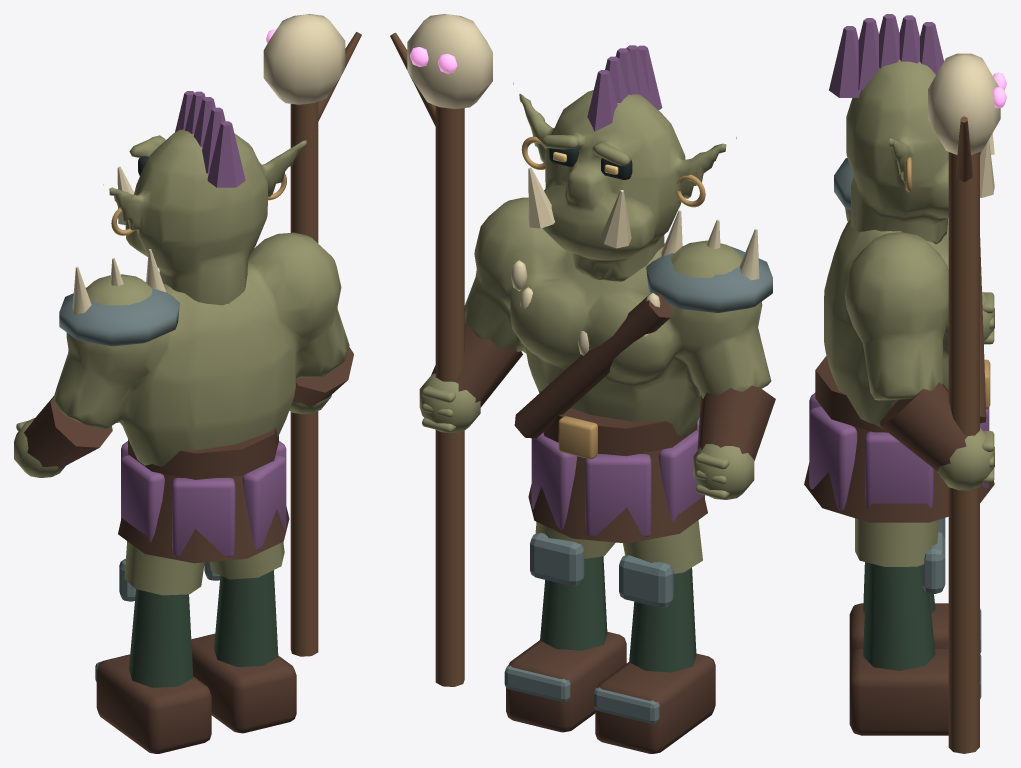
File: host_12.glb
3 renders of one model, left to right at view 1: azimuth 30°, elevation 25°; view 2: azimuth 150°, elevation 25°; view 3: azimuth 270°, elevation 25°, orthographic. The views are drawn at different scales.
Parts seen in each view (by area): view 1: mesh_Skin.002, mesh_Cloth.011, mesh_Leather.002, mesh_Wood.011, mesh_Bone.011, mesh_Leather.011, mesh_Leather.001, mesh_Shadow.011, mesh_Shadow.001, mesh_Iron.002, mesh_Skin.011, mesh_Skin.001; view 2: mesh_Skin.002, mesh_Leather.002, mesh_Wood.011, mesh_Cloth.011, mesh_Bone.011, mesh_Leather.011, mesh_Leather.001, mesh_Shadow.011, mesh_Shadow.001, mesh_Iron.002, mesh_Iron.011, mesh_Iron.001 (+4 smaller); view 3: mesh_Skin.002, mesh_Wood.011, mesh_Cloth.011, mesh_Leather.002, mesh_Leather.001, mesh_Shadow.001, mesh_Bone.011, mesh_Skin.001, mesh_Leather.011, mesh_Iron.001, mesh_Iron.002, mesh_Copper.011 (+1 smaller).
Boxes of the visible parts, x1=… form: mesh_Skin.002: x1=14, y1=129, x2=349, y2=477; mesh_Cloth.011: x1=121, y1=91, x2=286, y2=556; mesh_Leather.002: x1=24, y1=347, x2=353, y2=563; mesh_Wood.011: x1=290, y1=32, x2=361, y2=656; mesh_Bone.011: x1=72, y1=14, x2=345, y2=314; mesh_Leather.011: x1=96, y1=654, x2=211, y2=753; mesh_Leather.001: x1=191, y1=633, x2=296, y2=733; mesh_Shadow.011: x1=129, y1=589, x2=193, y2=687; mesh_Shadow.001: x1=214, y1=570, x2=278, y2=666; mesh_Iron.002: x1=59, y1=282, x2=179, y2=346; mesh_Skin.011: x1=124, y1=541, x2=204, y2=595; mesh_Skin.001: x1=209, y1=542, x2=284, y2=579; mesh_Skin.002: x1=419, y1=82, x2=771, y2=499; mesh_Leather.002: x1=431, y1=294, x2=775, y2=543; mesh_Wood.011: x1=390, y1=32, x2=464, y2=686; mesh_Cloth.011: x1=531, y1=45, x2=704, y2=536; mesh_Bone.011: x1=407, y1=14, x2=759, y2=355; mesh_Leather.011: x1=595, y1=653, x2=715, y2=753; mesh_Leather.001: x1=506, y1=631, x2=626, y2=732; mesh_Shadow.011: x1=629, y1=567, x2=696, y2=672; mesh_Shadow.001: x1=540, y1=556, x2=607, y2=650; mesh_Iron.002: x1=646, y1=245, x2=772, y2=312; mesh_Iron.011: x1=594, y1=555, x2=673, y2=723; mesh_Iron.001: x1=504, y1=533, x2=584, y2=702; mesh_Skin.002: x1=824, y1=59, x2=994, y2=490; mesh_Wood.011: x1=948, y1=116, x2=979, y2=753; mesh_Cloth.011: x1=809, y1=14, x2=989, y2=511; mesh_Leather.002: x1=804, y1=238, x2=994, y2=522; mesh_Leather.001: x1=849, y1=648, x2=948, y2=735; mesh_Shadow.001: x1=863, y1=562, x2=935, y2=670; mesh_Bone.011: x1=928, y1=53, x2=1000, y2=197; mesh_Skin.001: x1=855, y1=518, x2=938, y2=566; mesh_Leather.011: x1=849, y1=603, x2=948, y2=658; mesh_Iron.001: x1=922, y1=531, x2=981, y2=698; mesh_Iron.002: x1=834, y1=158, x2=852, y2=210; mesh_Copper.011: x1=905, y1=157, x2=990, y2=408.
Bounding box in the file's own units: 1.08 × 1.98 × 0.5101.
